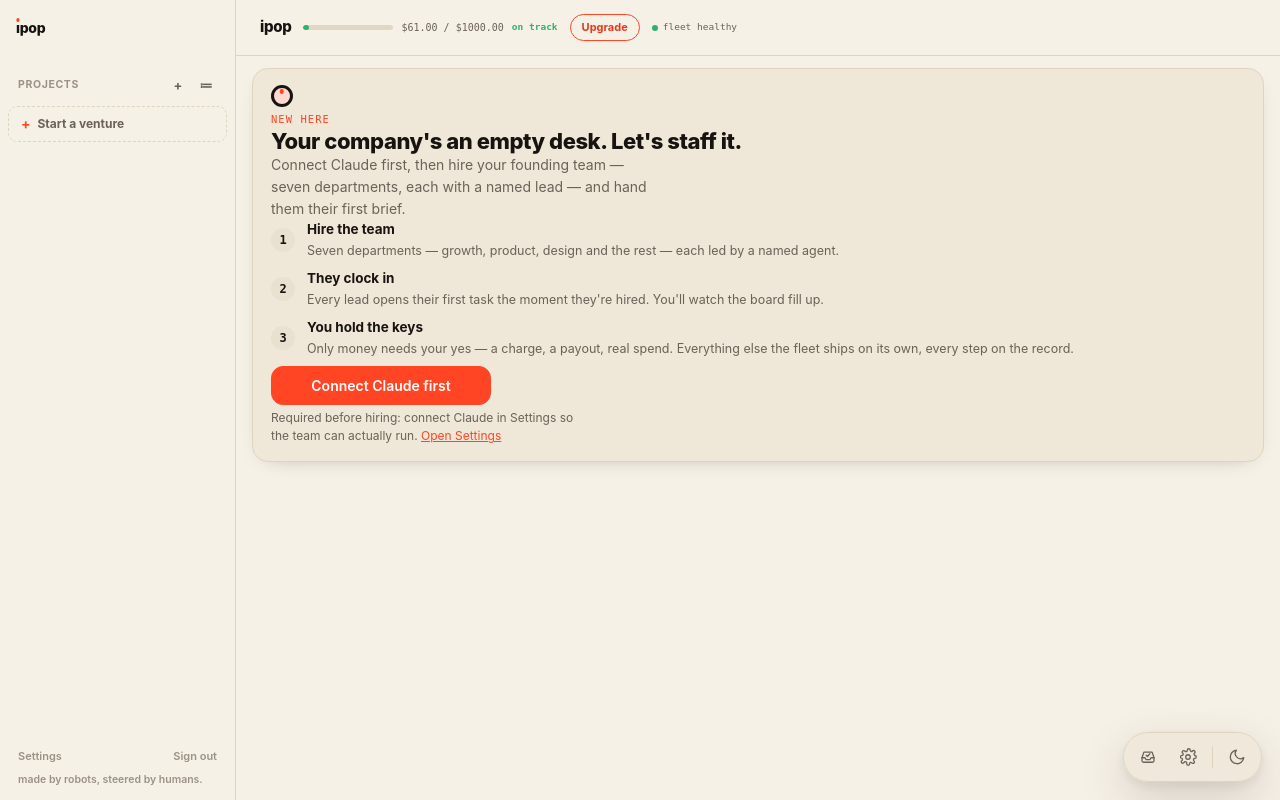
ConsoleView › requires Connect Claude before the first hire can complete (#916)
The width and height of the screenshot is (1280, 800).
expect the heading "Your company's an empty desk. Let's staff it." is shown: met, box [271,128,742,154]
Click the button "Connect Claude first".
click(381, 386)  # box [271,366,491,406]
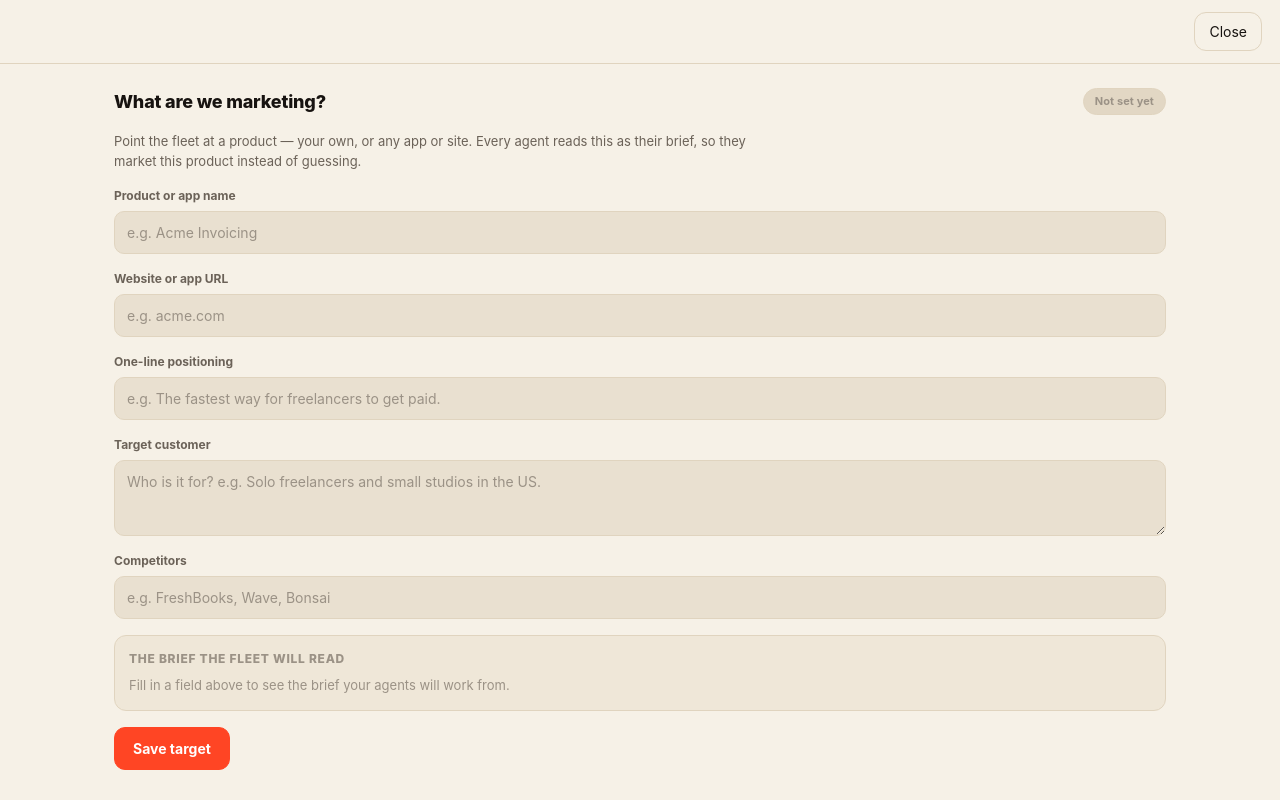
expect the text "Connect Claude" is shown: met, box [271,156,647,217]
expect the dialog named "Workspace settings" is shown: met
